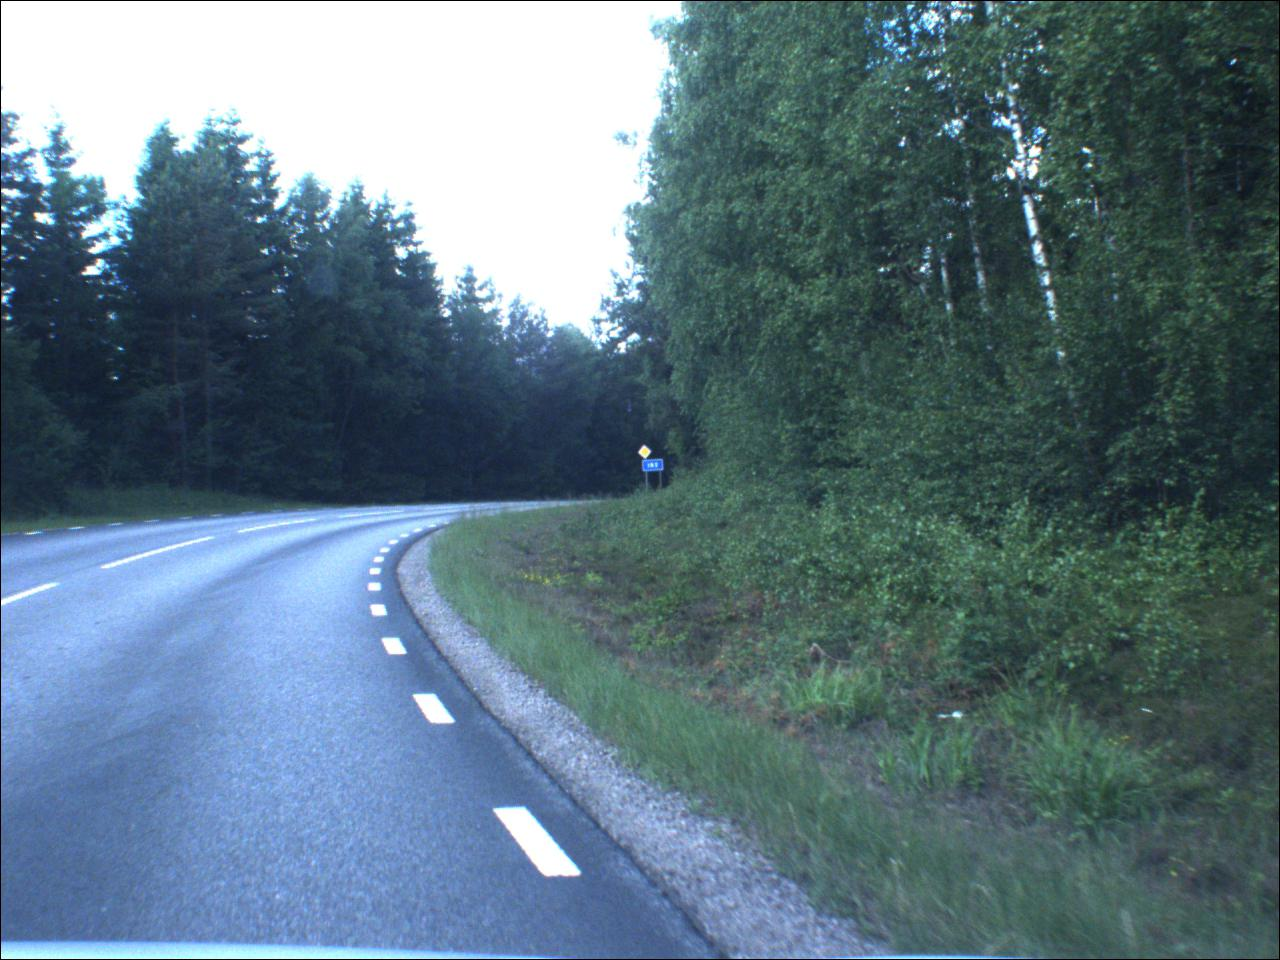PRIORITY_ROAD: (640, 446, 654, 461)
